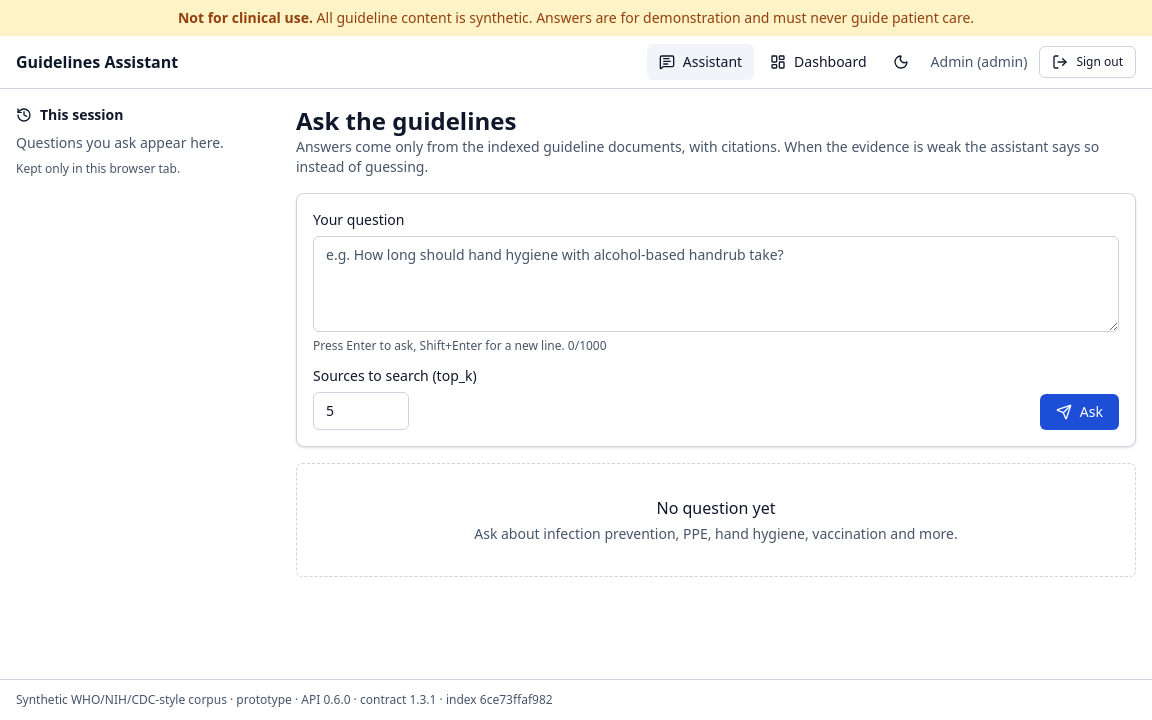
Test case: auth and route guards › signs out and drops the session
Click the button with test id "logout": (1088, 62) [1039,46,1136,78]
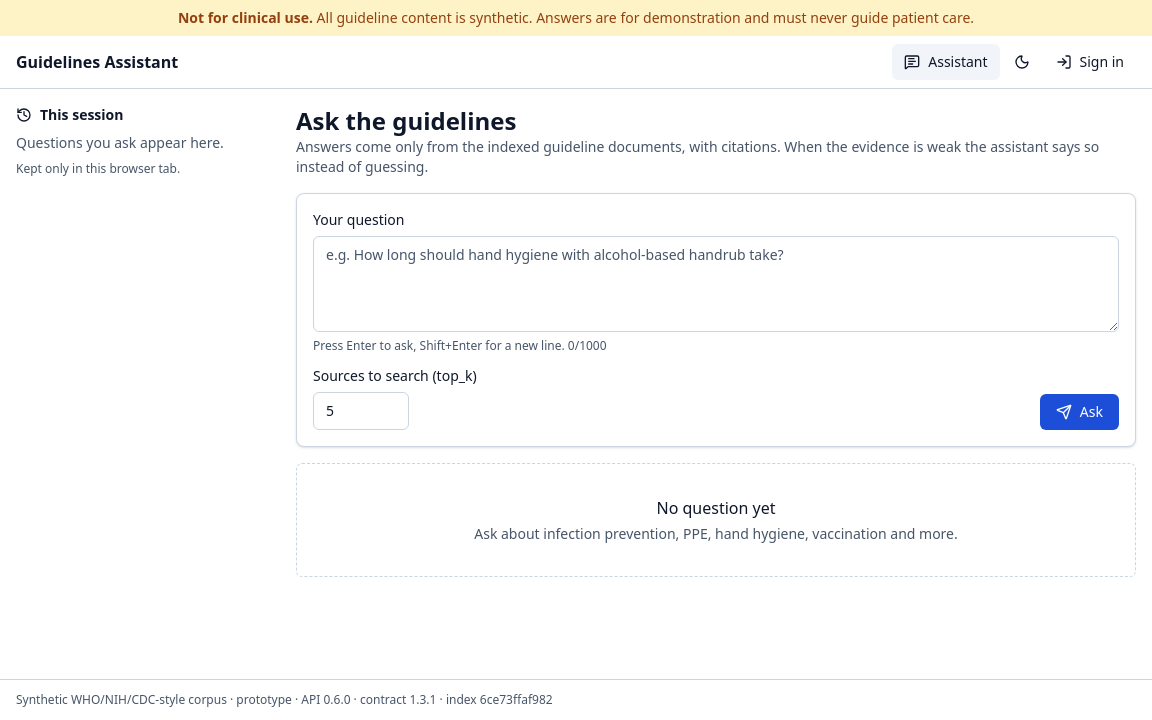
Expected: the link with test id "nav-login" is shown, [1056,52,1124,71]
